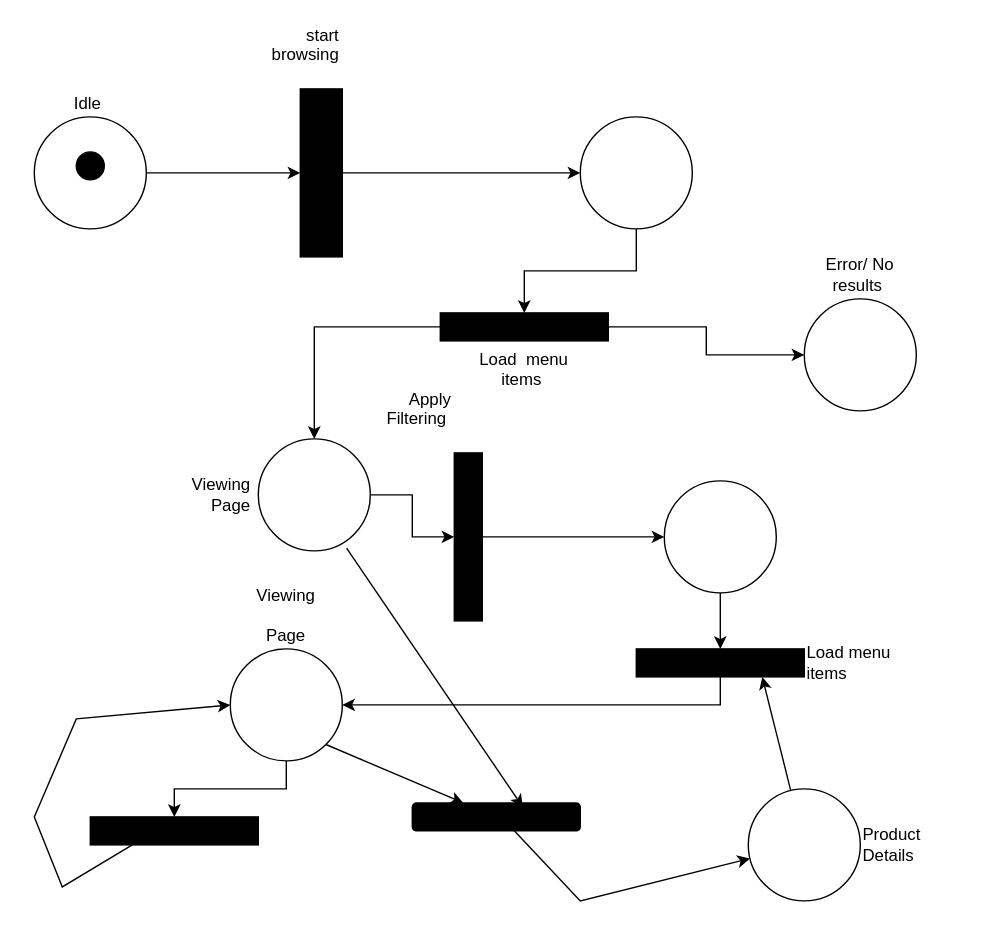
The diagram is 1002 pixels wide and 937 high, and some of its shapes have lost their labels. The shapes that lost their labels are listed below. From the top down, each one's centre as x and y in pixels, then its label:
At (x=635, y=172): "Browsing".
At (x=719, y=536): "Filtered Page".
At (x=173, y=830): "Next page".
At (x=495, y=816): "Open Menu Item Details".
